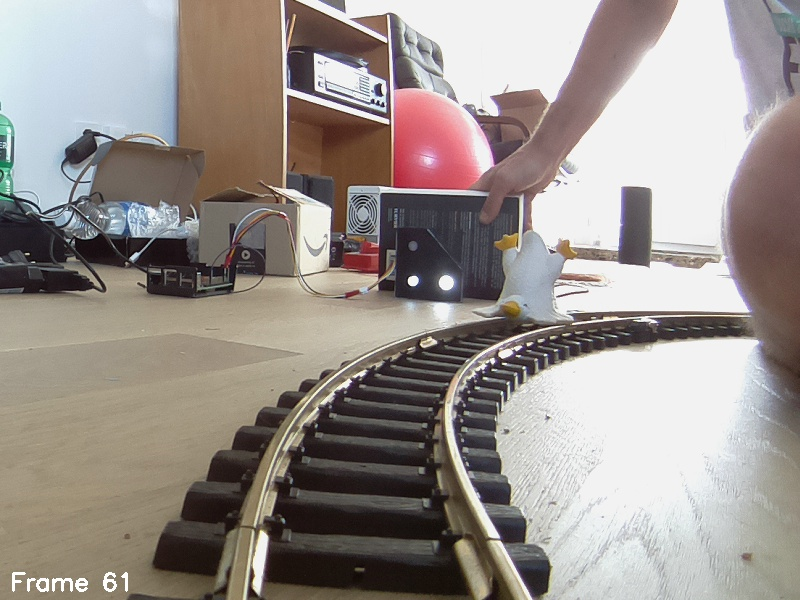Halt: (395, 226, 463, 305)
